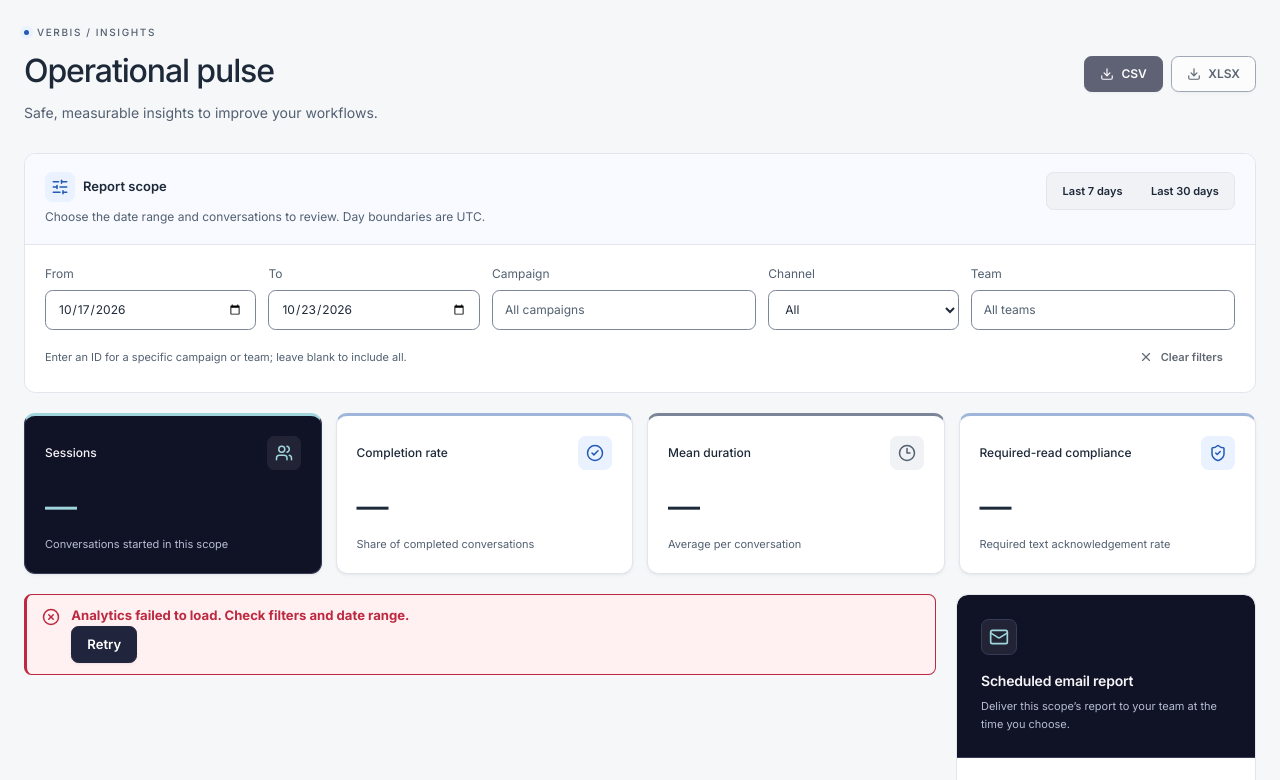
Test: retries a failed dashboard and rejects invalid date filters without issuing requests
Click the button "Retry".
click(104, 644)  # box x1=71 y1=626 x2=137 y2=663
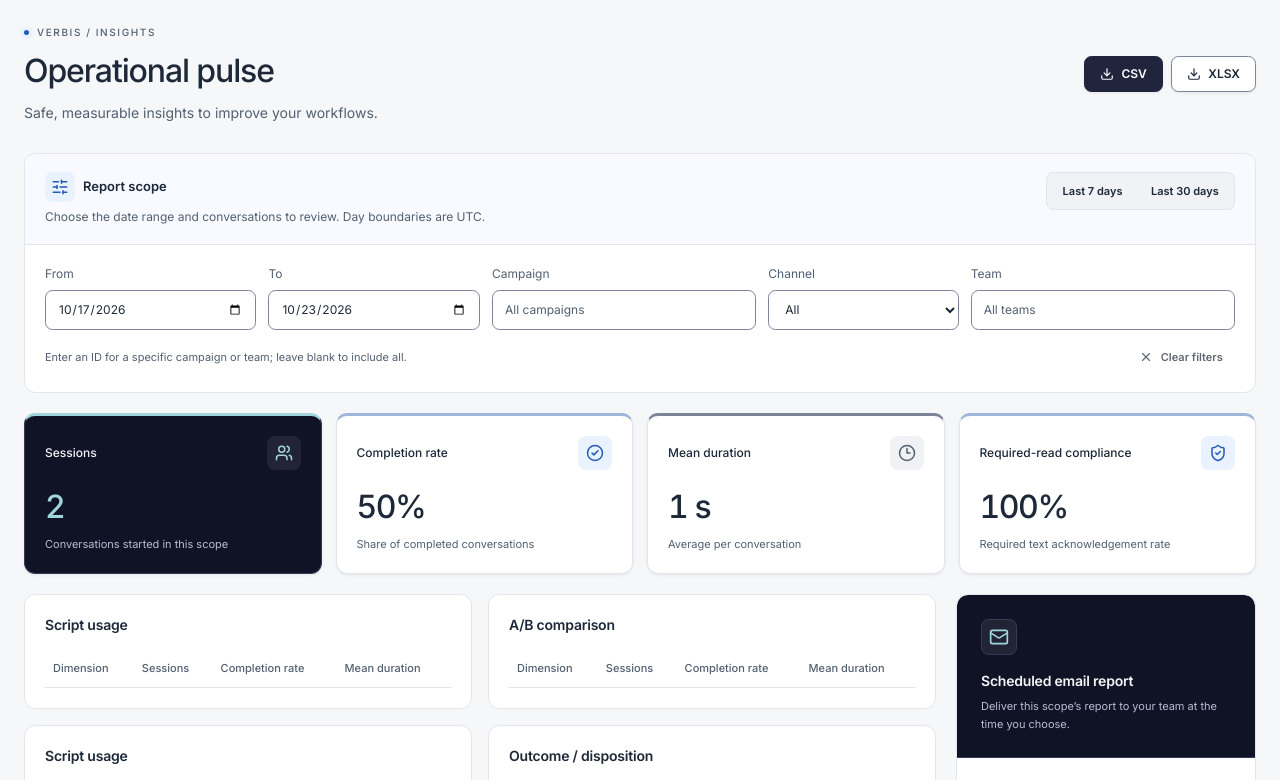
Expected: the text "Analytics failed to load. Check filters and date range." is gone
Type "2099-01-01" into the date field labelled "From".
click(151, 310); type("2099-01-01")  # box x1=45 y1=290 x2=256 y2=330
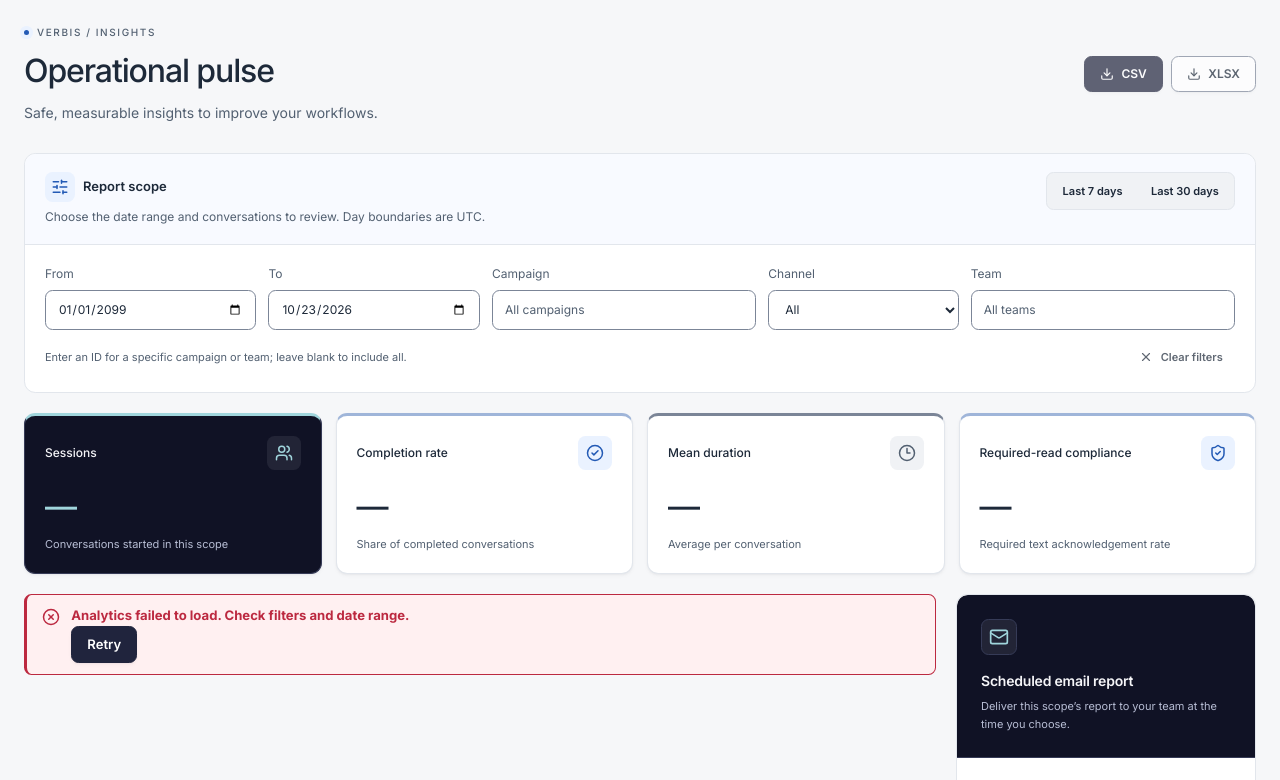
Expected: the text "Analytics failed to load. Check filters and date range." is shown, x1=71 y1=607 x2=410 y2=623
